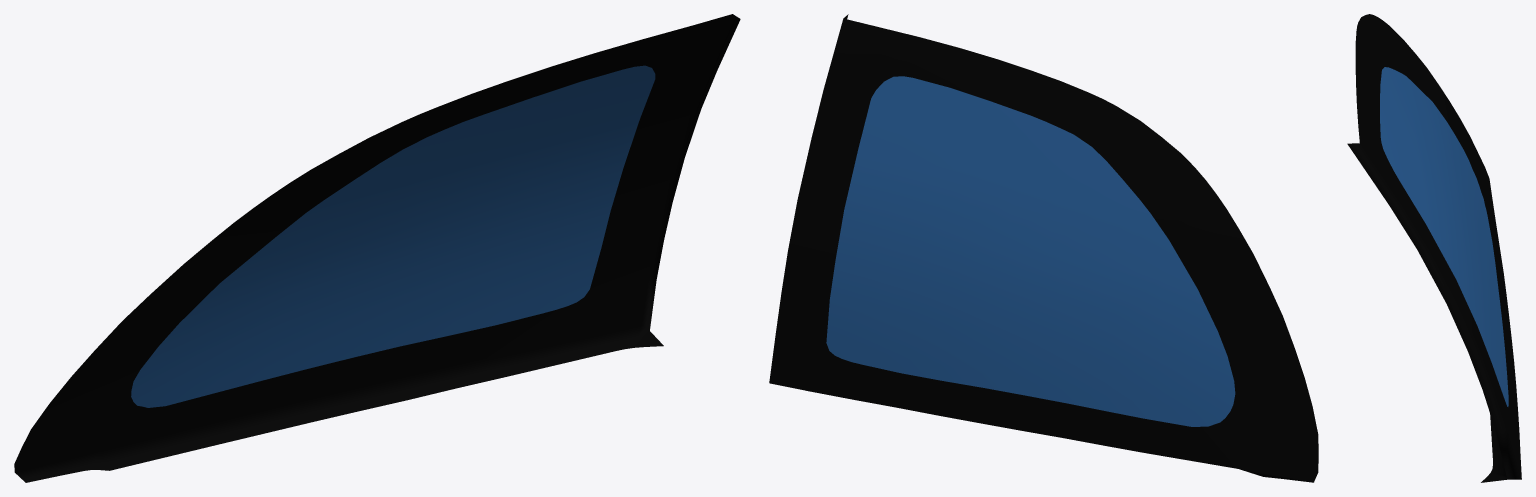
The picture shows the model from 3 angles, left to right: view 1: azimuth 30°, elevation 25°; view 2: azimuth 150°, elevation 25°; view 3: azimuth 270°, elevation 25°; orthographic projection. The views are drawn at different scales.
Visible parts, largest first — view 1: N664_9A_38SG_L_1_DTaSI_N664_9A_38SG_L, N664_9A_38SG_L_N664_9A_38SG_L_2_DTaSI; view 2: N664_9A_38SG_L_1_DTaSI_N664_9A_38SG_L, N664_9A_38SG_L_N664_9A_38SG_L_2_DTaSI; view 3: N664_9A_38SG_L_N664_9A_38SG_L_2_DTaSI, N664_9A_38SG_L_1_DTaSI_N664_9A_38SG_L.
Boxes of the visible parts, <box> form: N664_9A_38SG_L_1_DTaSI_N664_9A_38SG_L: <box>131,65,655,407</box>; N664_9A_38SG_L_N664_9A_38SG_L_2_DTaSI: <box>14,14,740,482</box>; N664_9A_38SG_L_1_DTaSI_N664_9A_38SG_L: <box>826,76,1235,426</box>; N664_9A_38SG_L_N664_9A_38SG_L_2_DTaSI: <box>769,14,1318,482</box>; N664_9A_38SG_L_N664_9A_38SG_L_2_DTaSI: <box>1347,14,1521,482</box>; N664_9A_38SG_L_1_DTaSI_N664_9A_38SG_L: <box>1380,67,1508,406</box>.
Size of the model in its own units: 85.41 by 47.97 by 22.34.
